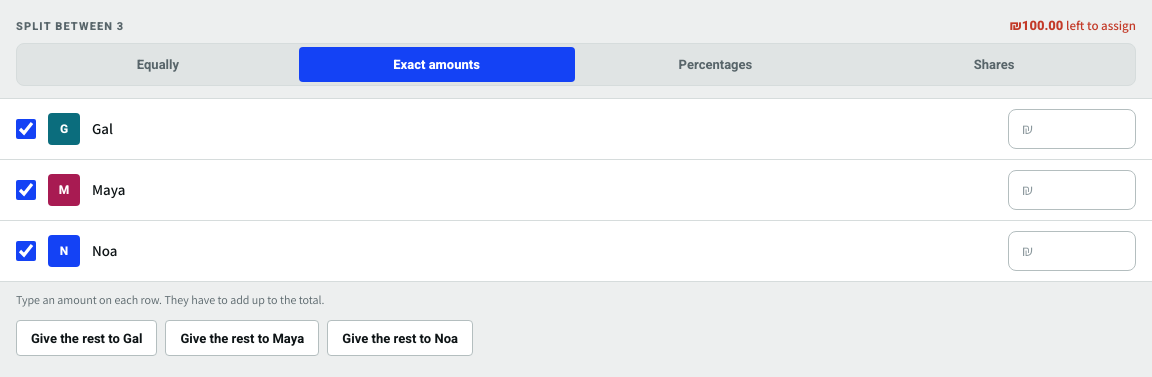
it: validation › names the shortfall on an exact split that does not add up
This screenshot has width=1152, height=377.
Type "33.33" into the field named "Gal's amount" at (1072, 129), box [1008,109,1136,149]
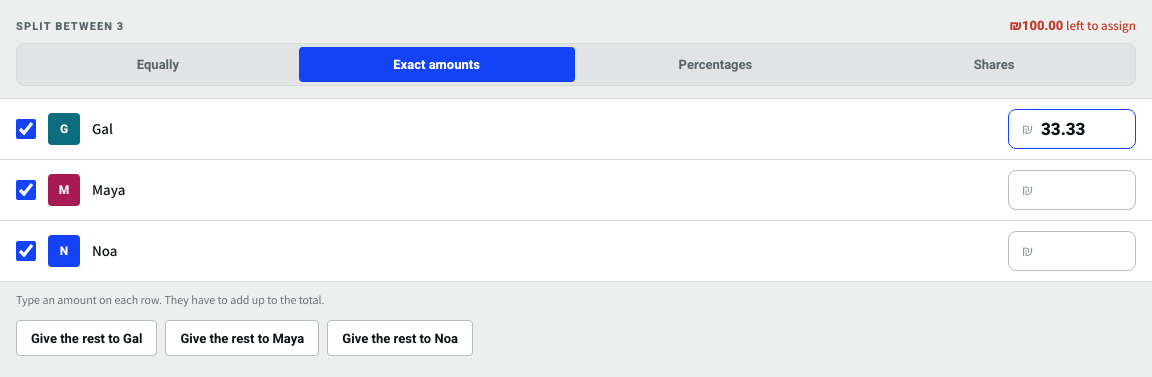
Press Tab
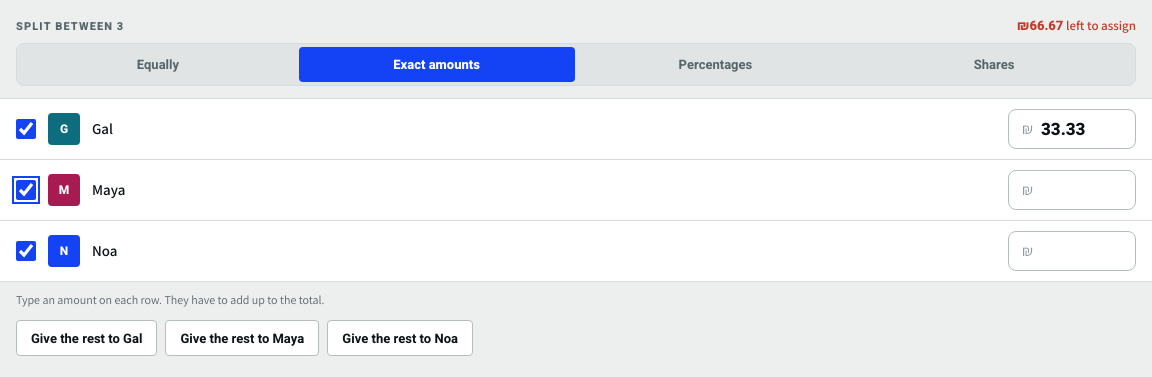
Type "33.33" into the field named "Maya's amount" at (1072, 190), box [1008,170,1136,210]
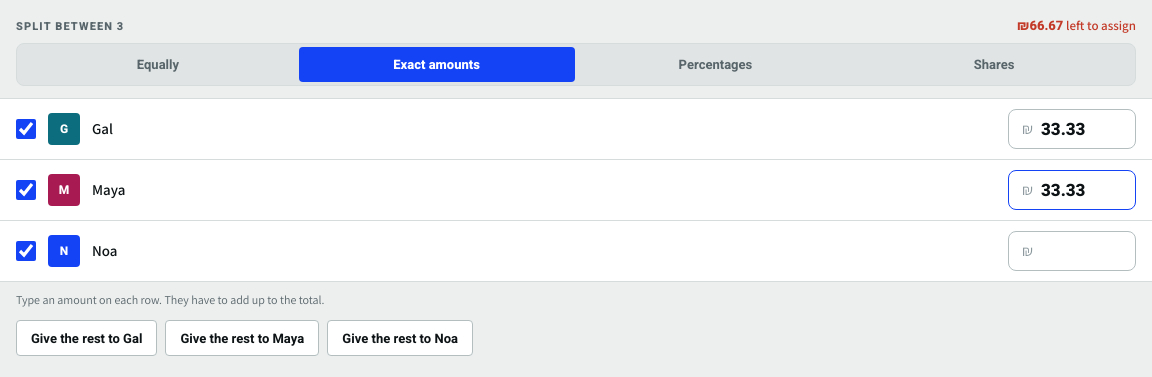
Press Tab
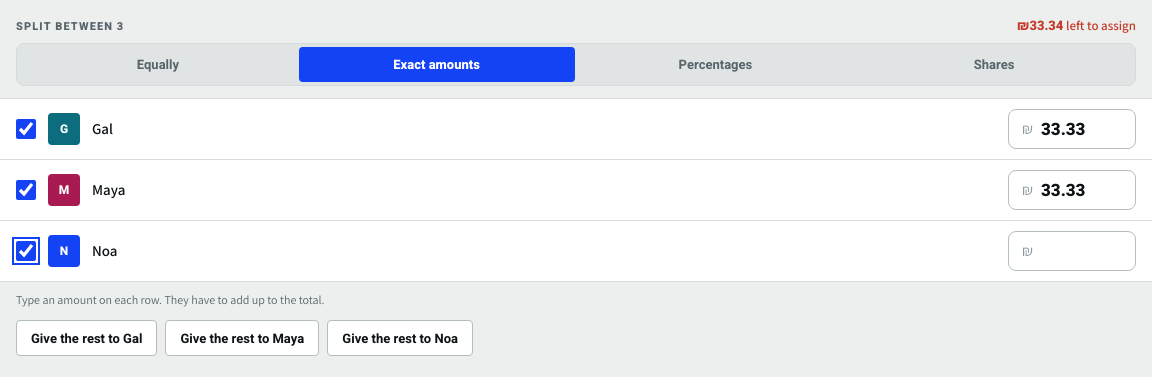
Type "33.33" into the field named "Noa's amount" at (1072, 251), box [1008,231,1136,271]
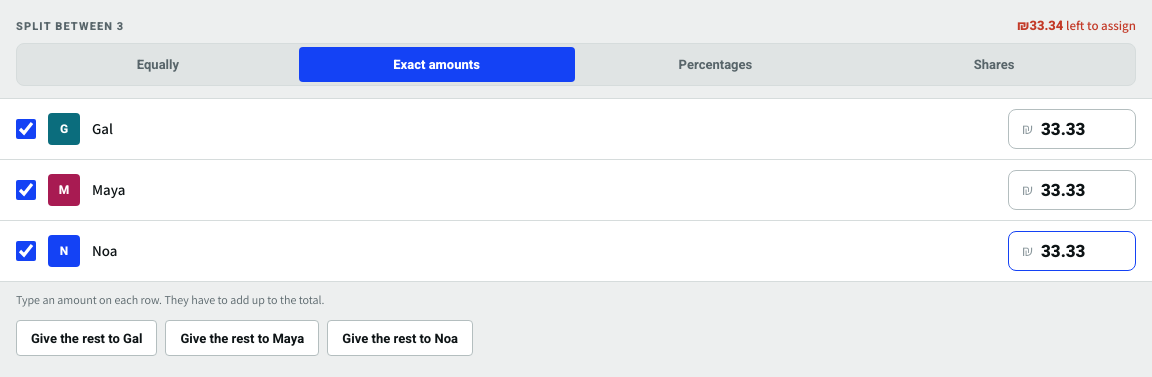
Press Tab
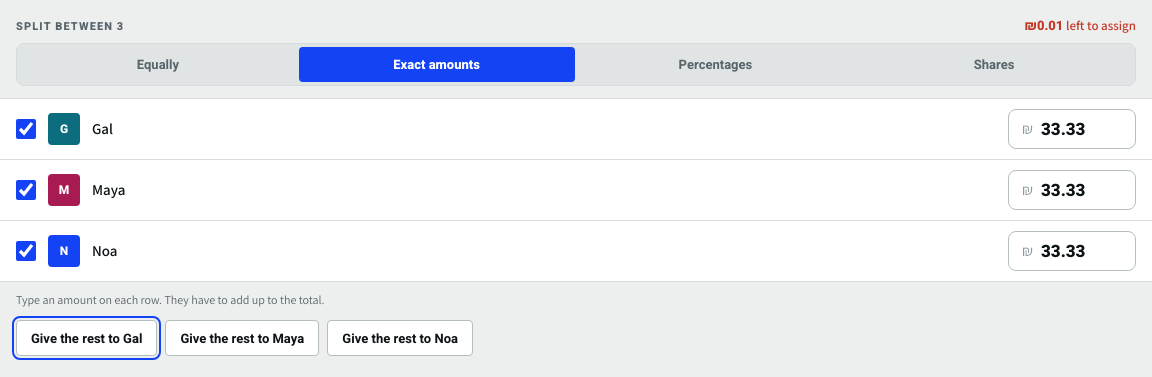
Expected: the message shows "0.01 left to assign", [1024,16,1136,35]
